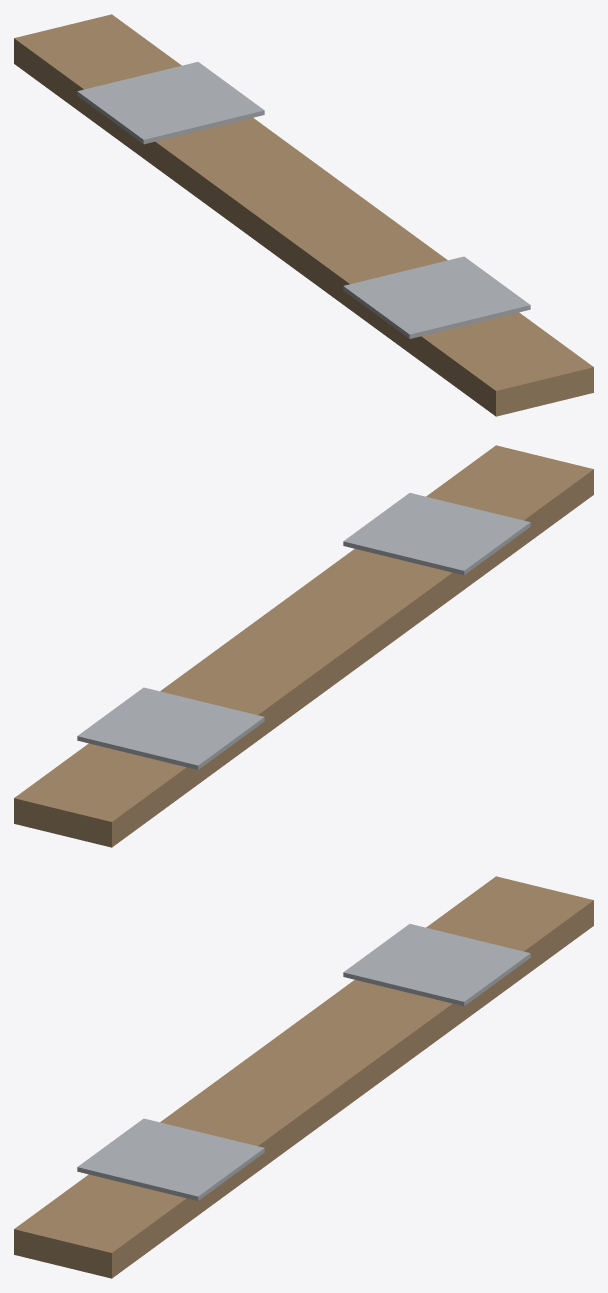
Rendered from Sleeper_0.fbx.
3 views of the same model, one above another, from view 1: azimuth 30°, elevation 25°; view 2: azimuth 150°, elevation 25°; view 3: azimuth 330°, elevation 25° (orthographic).
Parts seen in each view (by area): view 1: Sleeper_0; view 2: Sleeper_0; view 3: Sleeper_0.
Boxes of the visible parts, x1,y1,x2,y2 form: Sleeper_0: [14, 14, 593, 416]; Sleeper_0: [14, 445, 593, 847]; Sleeper_0: [14, 876, 593, 1278].
Bounding box in the file's own units: 0.42 × 0.1 × 2.9.
